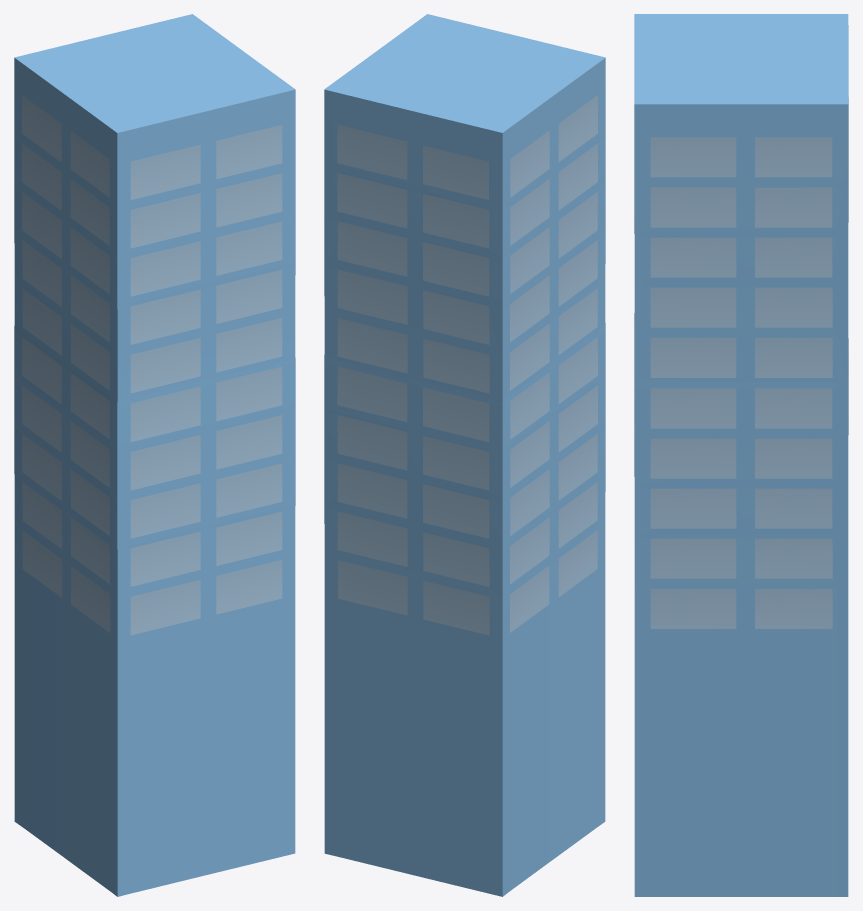
File: house_2wind.fbx
The picture shows the model from 3 angles, left to right: view 1: azimuth 30°, elevation 25°; view 2: azimuth 150°, elevation 25°; view 3: azimuth 270°, elevation 25°; orthographic projection. The views are drawn at different scales.
Visible parts, largest first — view 1: house_2wind; view 2: house_2wind; view 3: house_2wind.
Part boxes in pixels (left/top/right/bottom): house_2wind: left=14, top=14, right=295, bottom=896; house_2wind: left=324, top=14, right=605, bottom=896; house_2wind: left=634, top=14, right=848, bottom=896.
Size of the model in its own units: 61.35 by 251 by 61.5.
